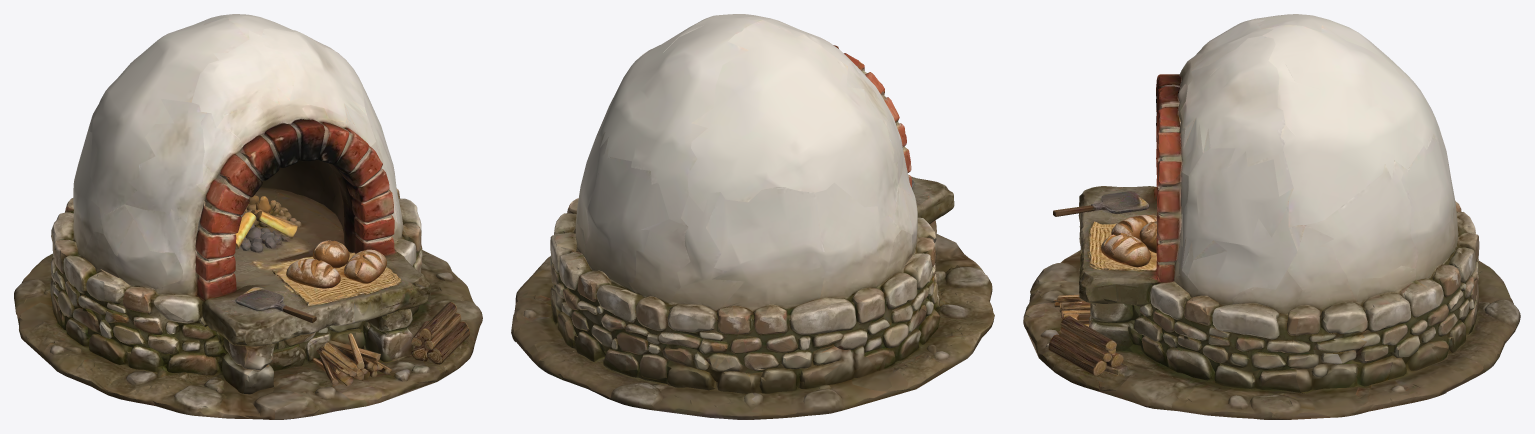
Rendered from storybook-oven.glb.
3 renders of one model, left to right at view 1: azimuth 30°, elevation 25°; view 2: azimuth 150°, elevation 25°; view 3: azimuth 270°, elevation 25°, orthographic. The views are drawn at different scales.
Parts seen in each view (by area): view 1: Mesh_0; view 2: Mesh_0; view 3: Mesh_0.
Part boxes in pixels (x1,y1,x2,y2): Mesh_0: (14,14,482,419); Mesh_0: (511,14,994,419); Mesh_0: (1023,14,1520,419).
Bounding box in the file's own units: 1.81 × 1.24 × 1.9.
1 material, 1 textured.
